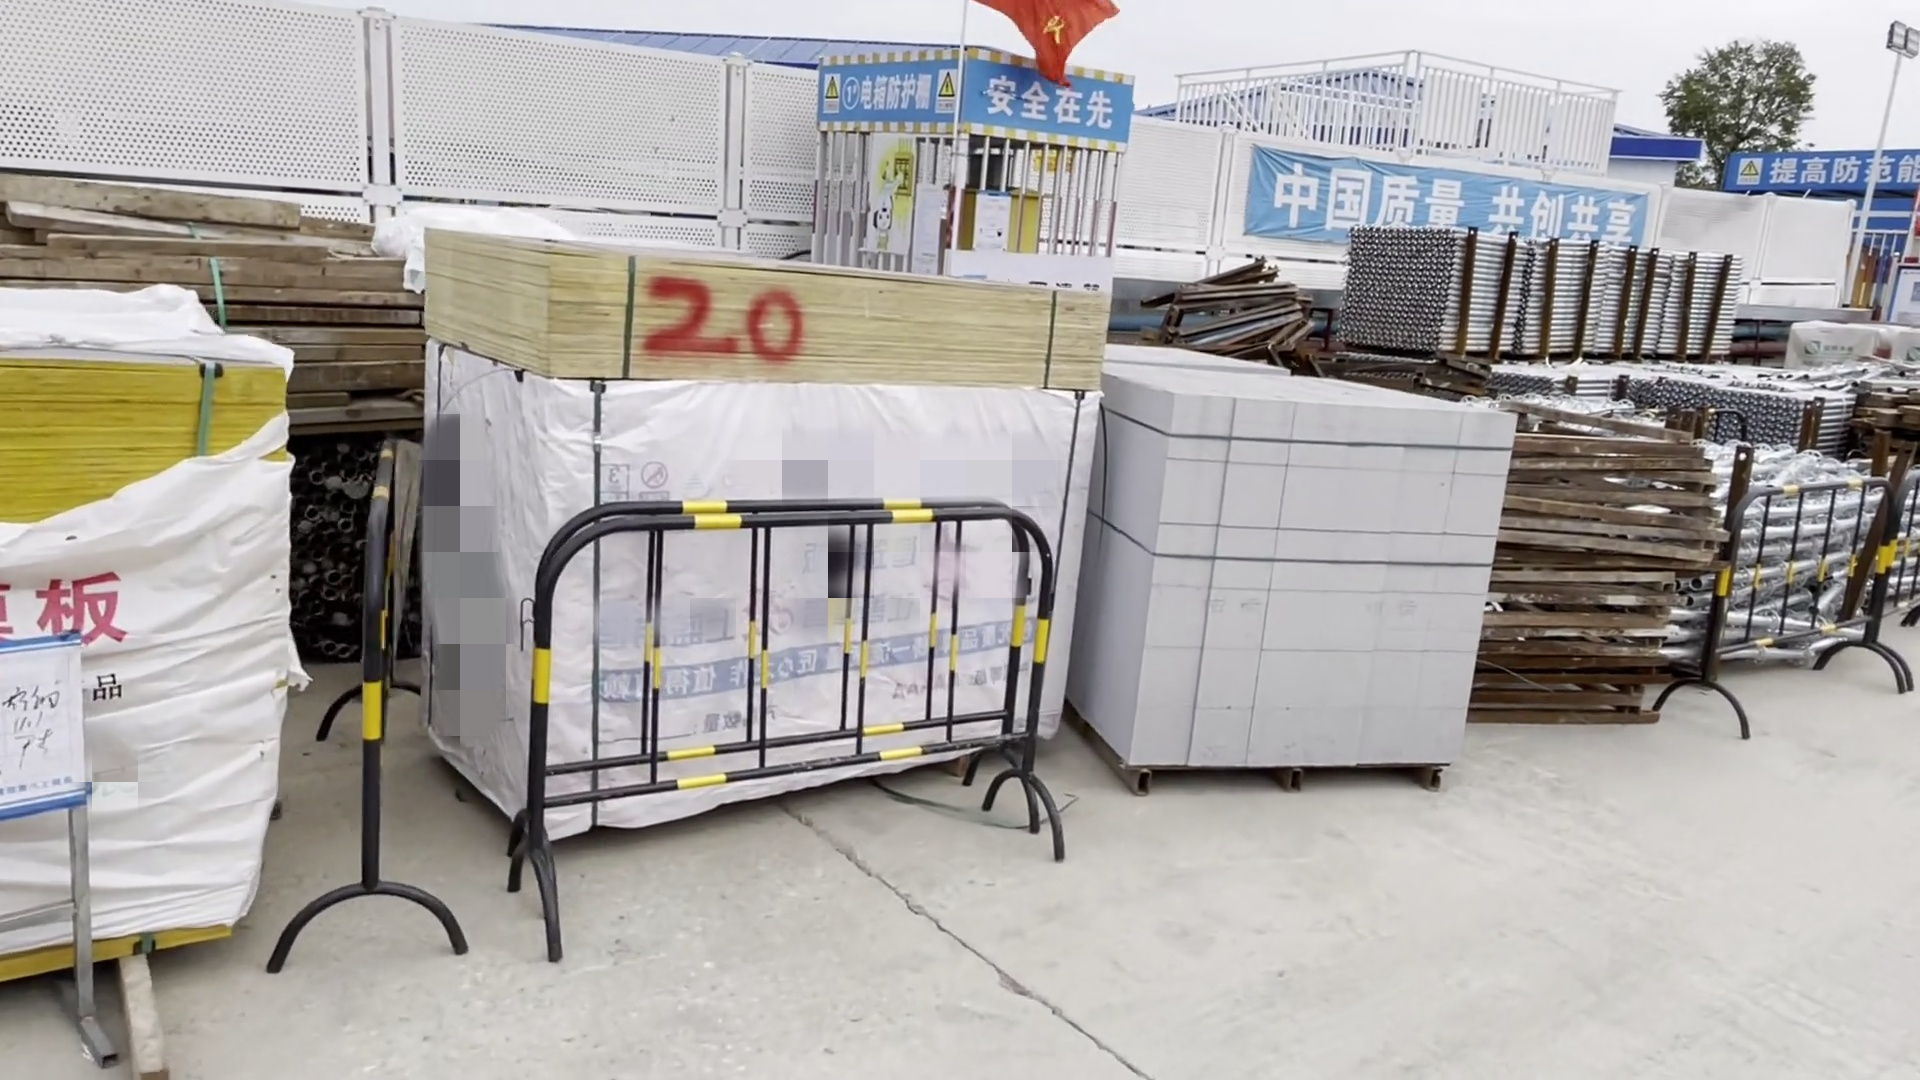brick: (1108, 353, 1510, 825)
scaffold: (1338, 240, 1745, 359)
slogan: (1244, 135, 1656, 268), (819, 51, 1135, 144), (1725, 146, 1908, 200)
